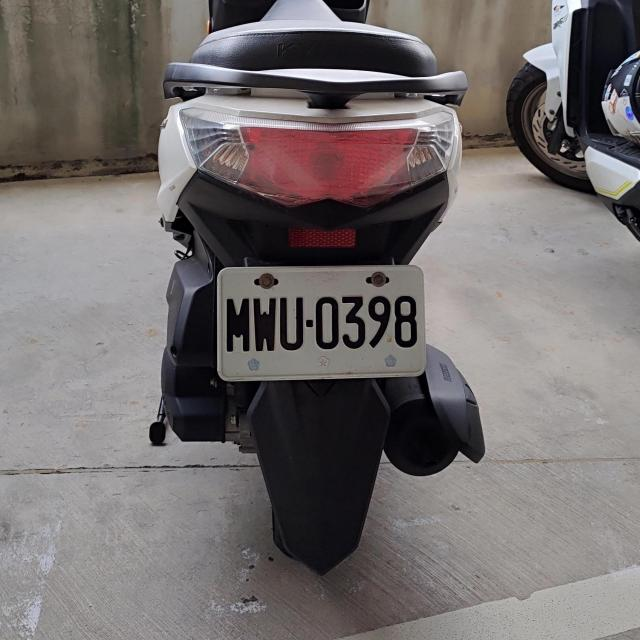W: (217, 263, 425, 380)
